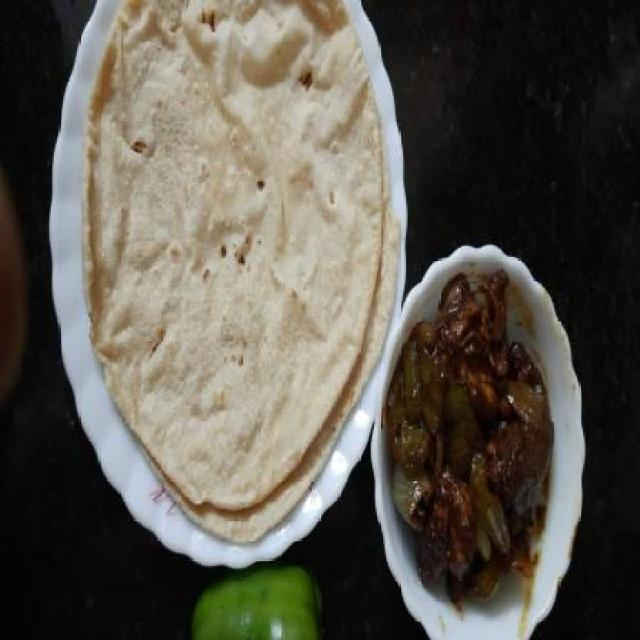chapati: (82, 0, 398, 545)
